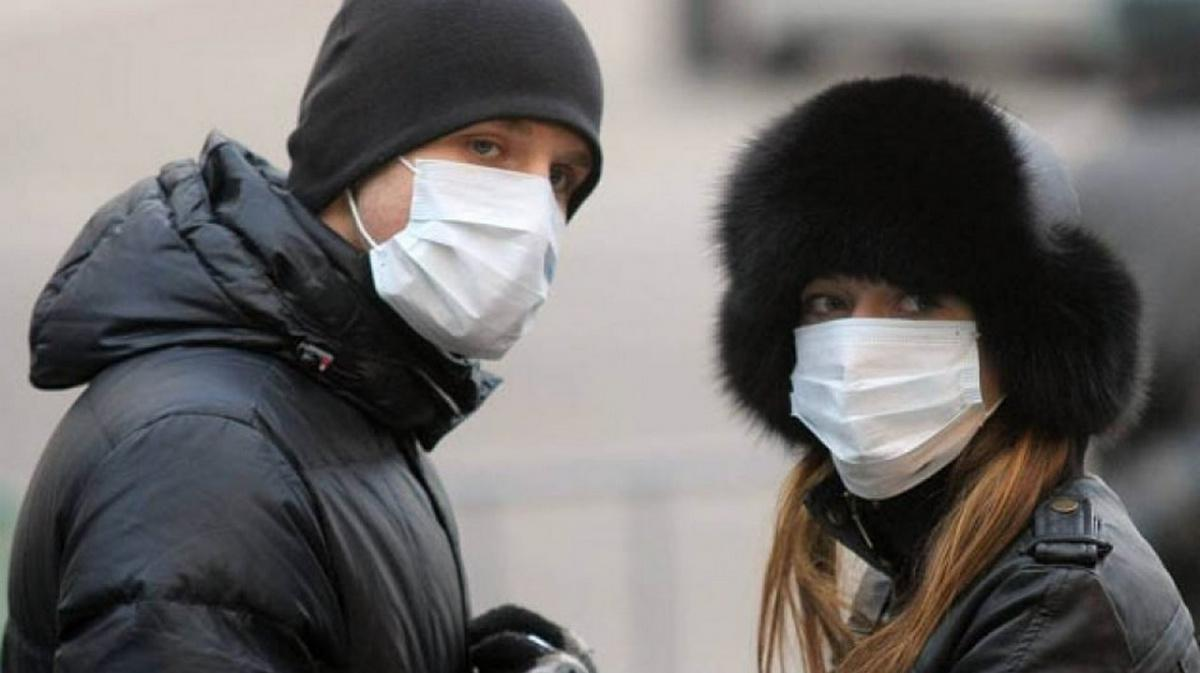mask: (339, 91, 599, 360), (762, 230, 1022, 499)
